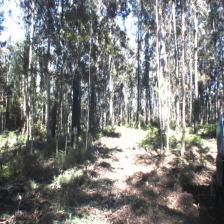trunktrack_idkeyframe: (71, 95, 80, 146), (194, 82, 198, 134)
